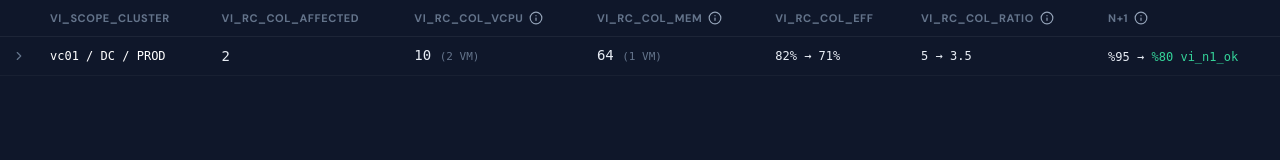
Test: Geri kazanım simülasyonu › aday yoksa tablo yerine açıklama gösterilir
Click the row with test id "rc-row". click: (640, 56)
box: [0,36,1279,76]
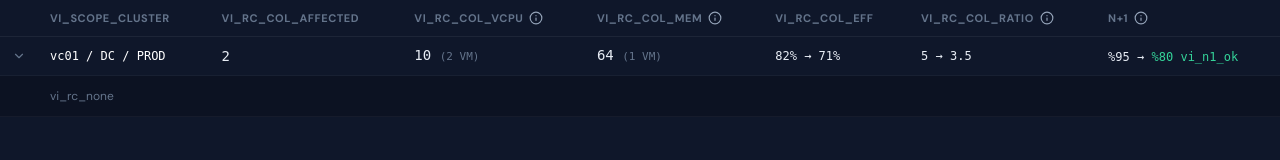
Now the cell with test id "rc-detail" reads "vi_rc_none", box [50,88,114,104]
